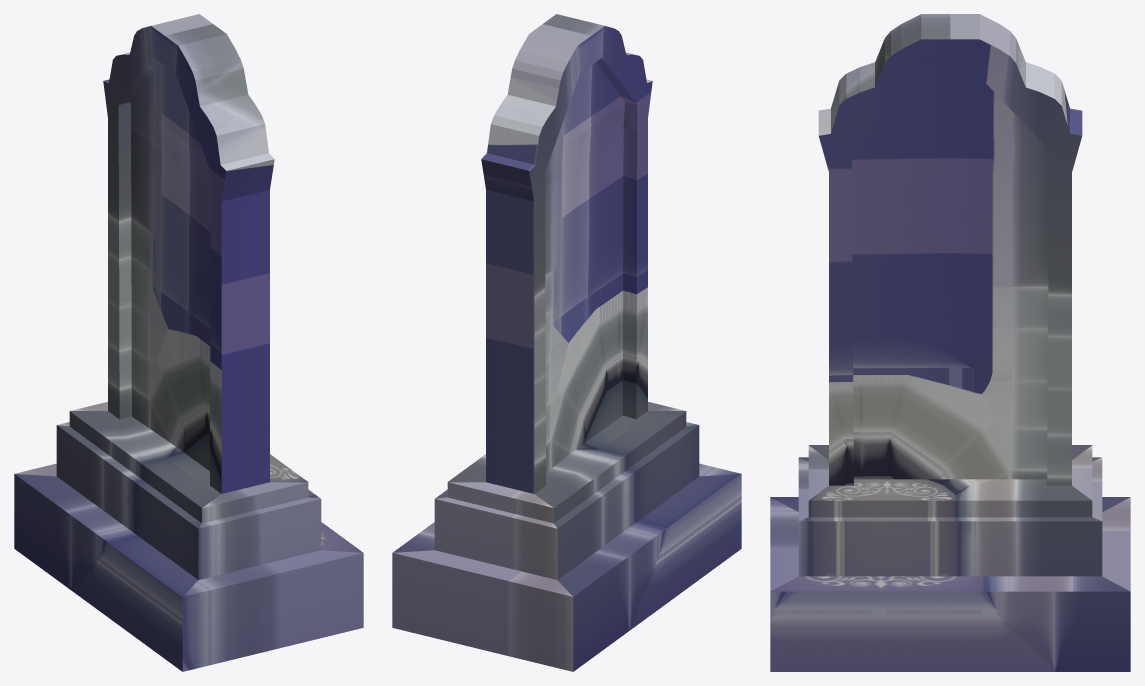
File: 53_TombStone_03.fbx
3 views of the same model, side by side, from view 1: azimuth 30°, elevation 25°; view 2: azimuth 150°, elevation 25°; view 3: azimuth 270°, elevation 25° (orthographic). The views are drawn at different scales.
Parts seen in each view (by area): view 1: 03_TombStone.005; view 2: 03_TombStone.005; view 3: 03_TombStone.005.
Part boxes in pixels (<box>): 03_TombStone.005: <box>14,14,363,671</box>; 03_TombStone.005: <box>392,14,741,671</box>; 03_TombStone.005: <box>770,14,1130,671</box>.
Bounding box in the file's own units: 99.75 × 294 × 161.
